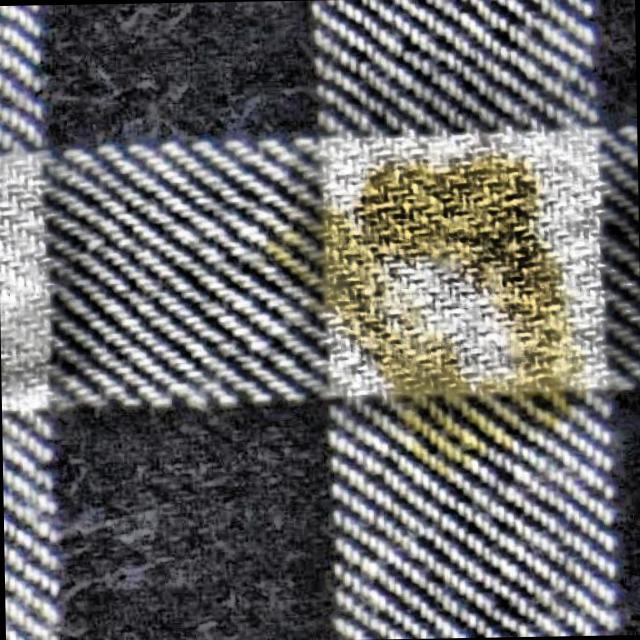color issues: (40, 415, 244, 640)
